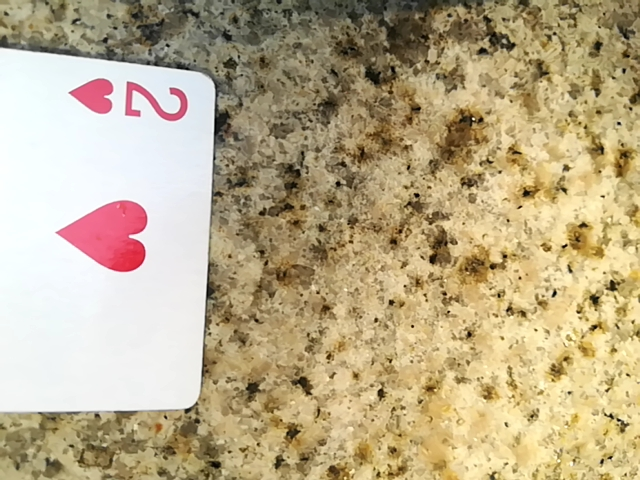hx 2: (1, 24, 214, 428)
